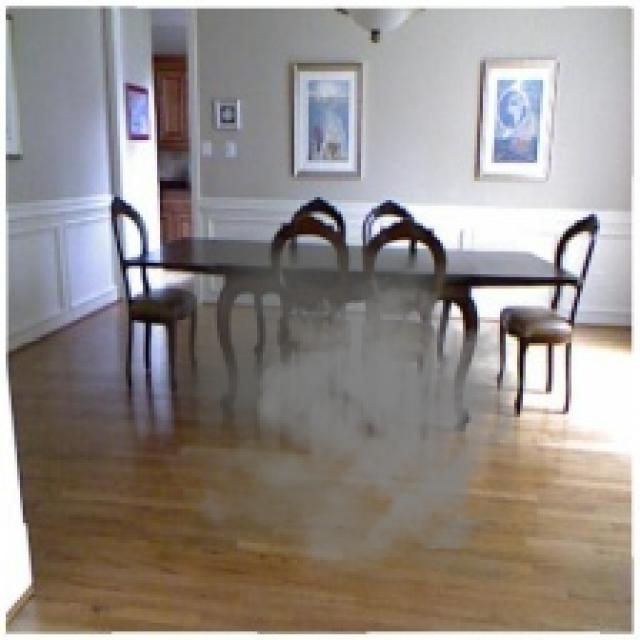smoke: (160, 228, 529, 588)
